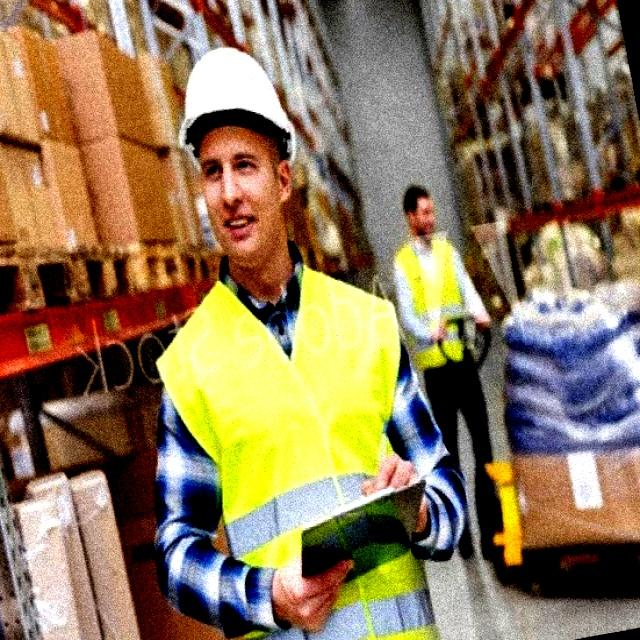helmet: (166, 38, 313, 158)
safety_vest: (163, 253, 462, 640), (388, 235, 478, 369)
